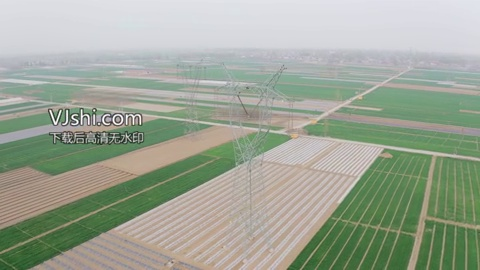tower_body: (216, 60, 297, 261)
tower_head: (218, 63, 292, 163)
